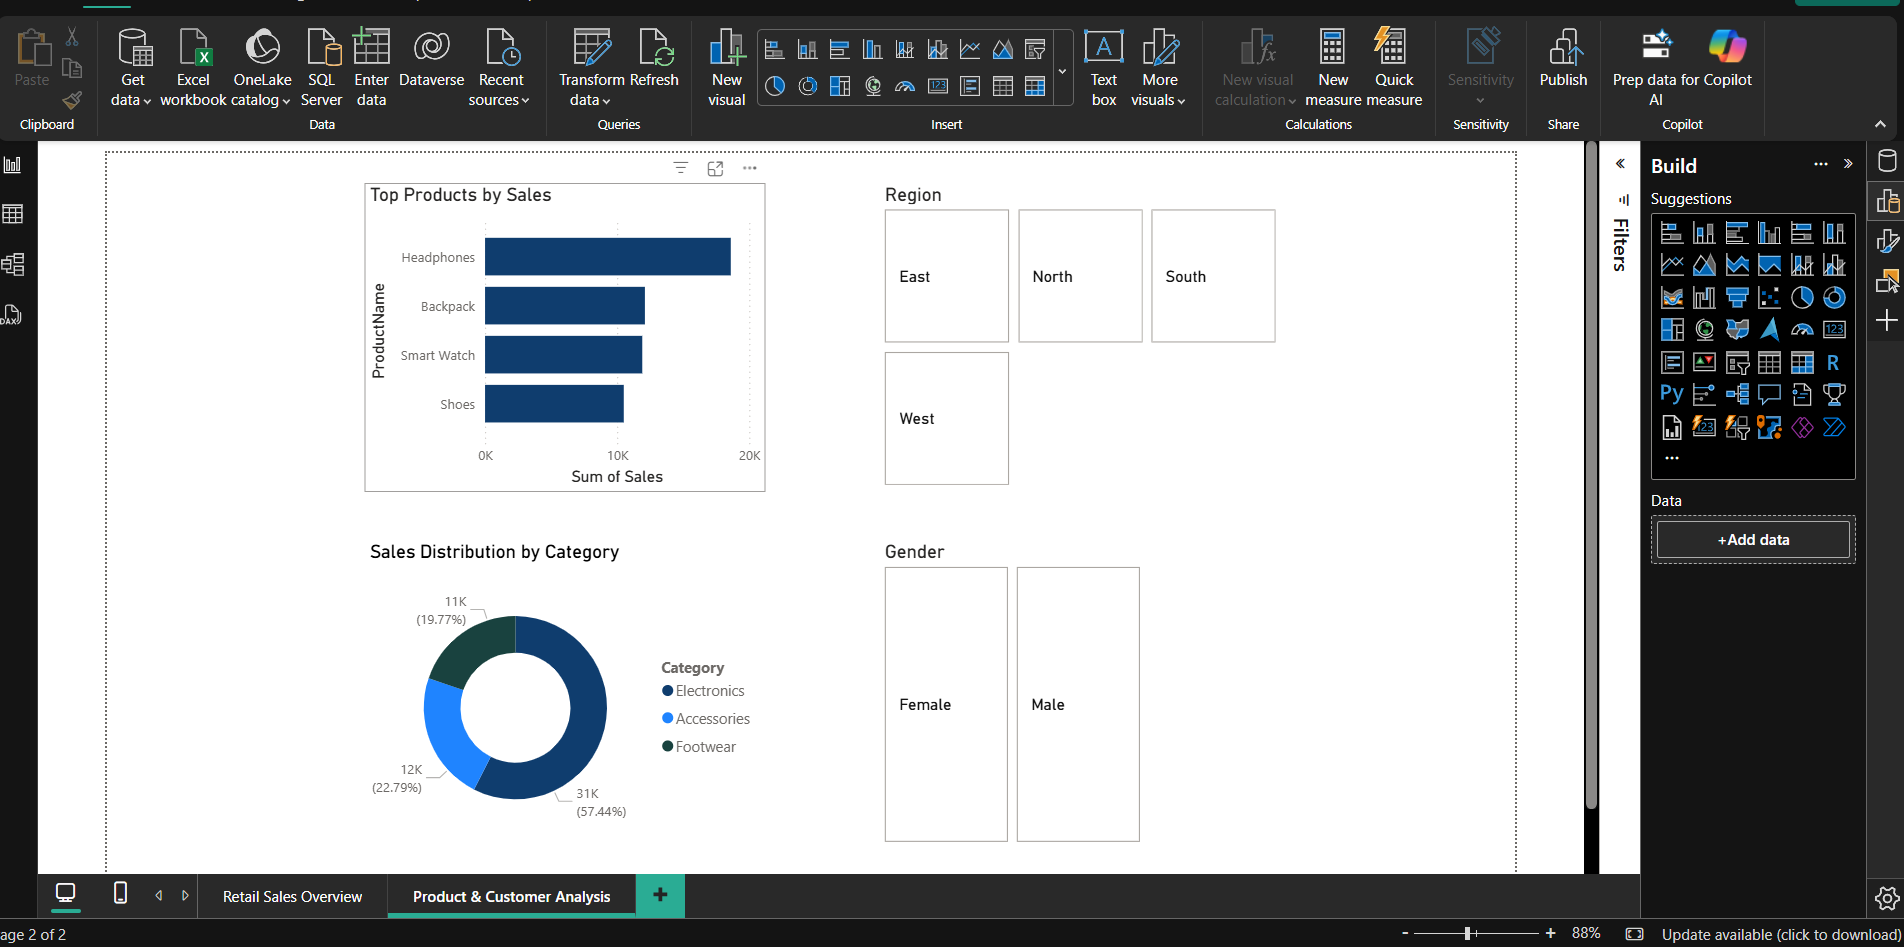

The page's visual inventory and layout, read from the dashboard file:
{"tool":"powerbi","page":{"name":"Product & Customer Analysis","canvas":[1280,720],"ordinal":1},"visuals":[{"type":"barChart","title":"Top Products by Sales","fields":{"Y":["Sum(Sales_Data.Sales)"],"Category":["Product_Data.ProductName"]},"box":[233.8,27.5,365,280],"z":0},{"type":"donutChart","title":"Sales Distribution by Category","fields":{"Y":["Sum(Sales_Data.Sales)"],"Category":["Product_Data.Category"]},"box":[234.1,352.3,364.8,285.2],"z":1},{"type":"advancedSlicerVisual","fields":{"Values":["Sales_Data.Region"]},"box":[702.5,27.5,365,280],"z":3},{"type":"advancedSlicerVisual","fields":{"Values":["Customer_Data.Gender"]},"box":[702.3,352.3,364.8,279.5],"z":4}]}

Visuals, with their boxes on the page's 1280x720 design canvas (x1, y1, x2, y2). These are canvas units, not pixel positions in the 1904x947 screenshot, which may show the page scaled, cropped or inside an application window:
"Top Products by Sales" barChart: 234/28/599/308
"Sales Distribution by Category" donutChart: 234/352/599/638
advancedSlicerVisual - Sales_Data.Region: 702/28/1068/308
advancedSlicerVisual - Customer_Data.Gender: 702/352/1067/632
